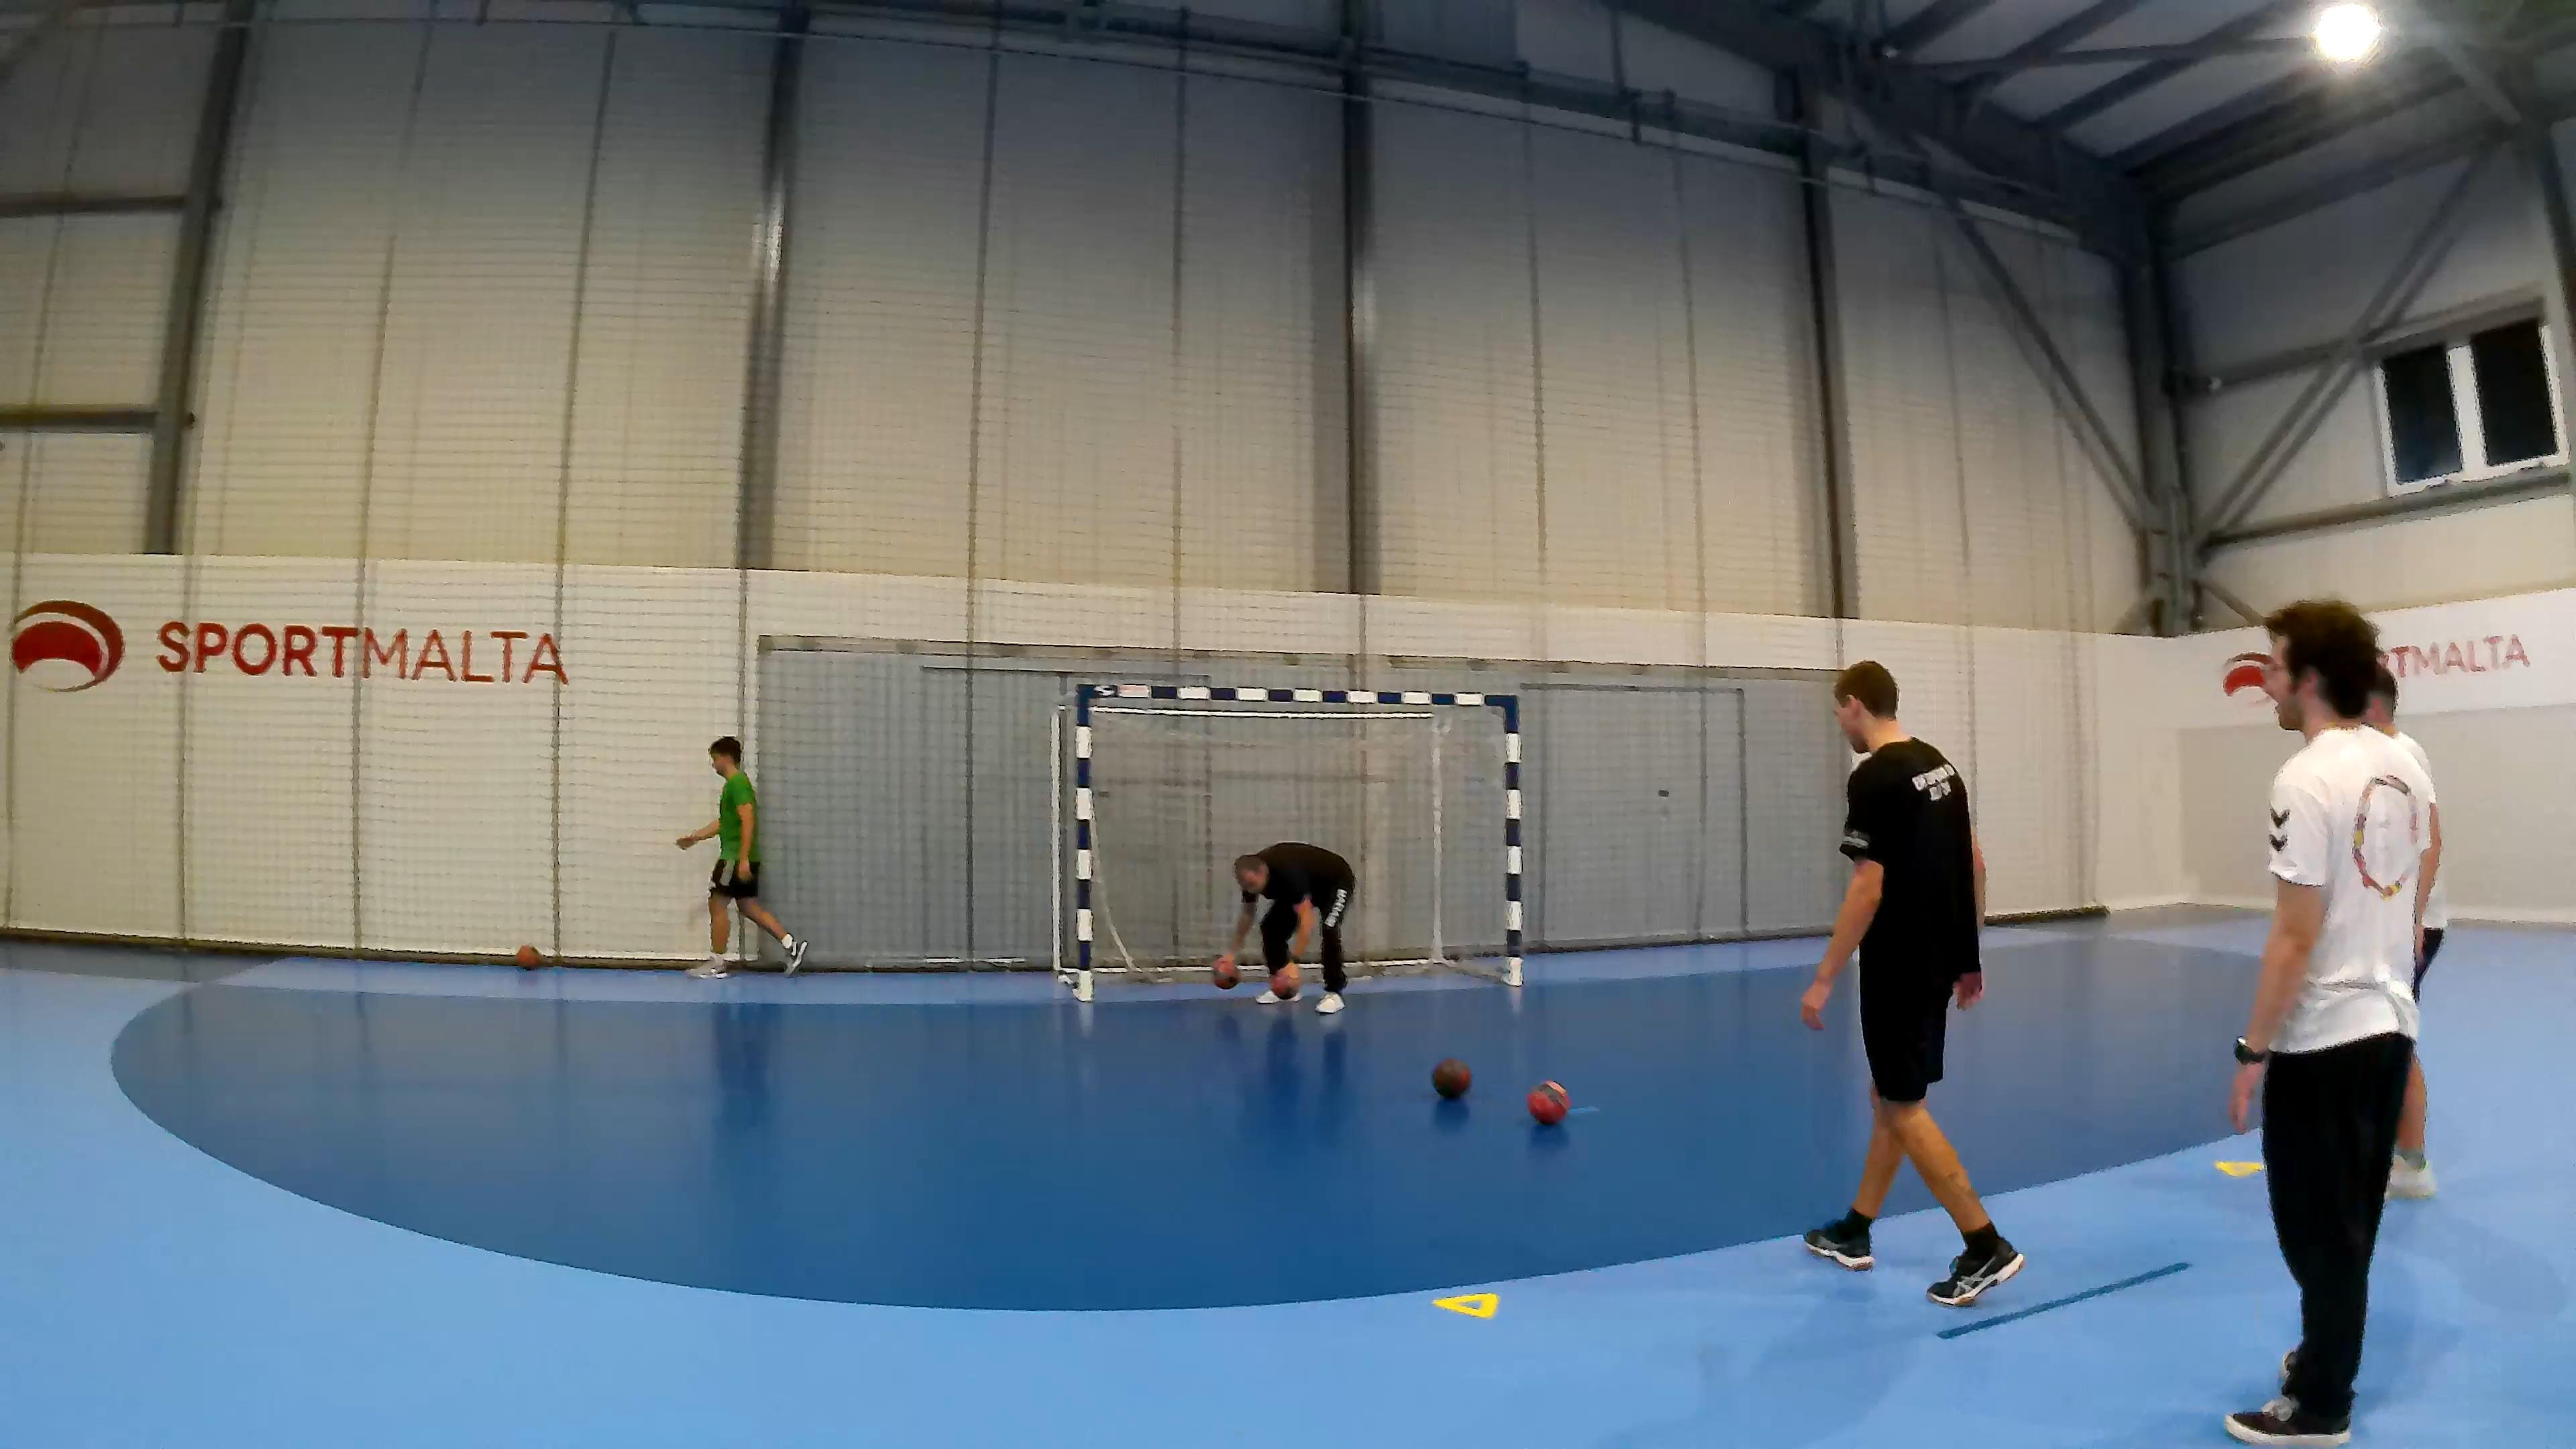handball: (1525, 1079, 1569, 1125), (1430, 1056, 1470, 1097), (1269, 962, 1300, 998), (1210, 954, 1238, 989)
